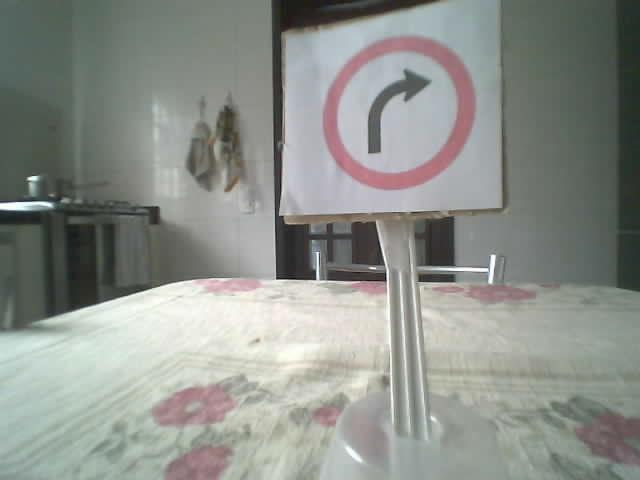R-25b_direita: (321, 33, 475, 188)
